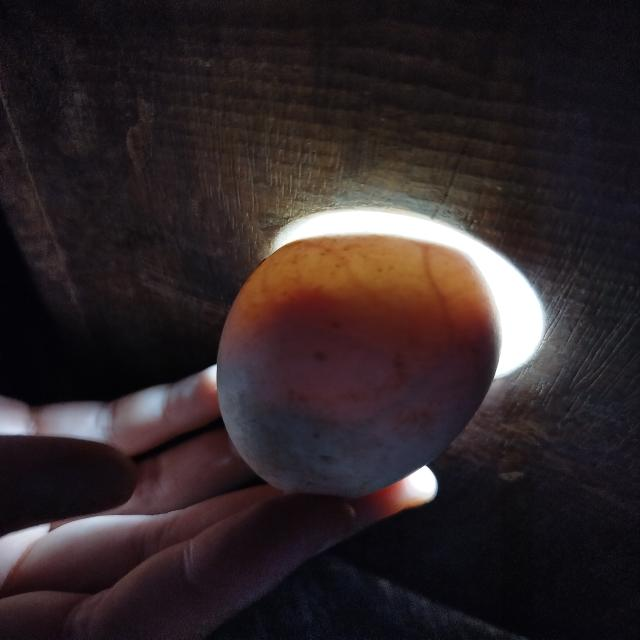Embriao: (220, 391, 429, 495)
